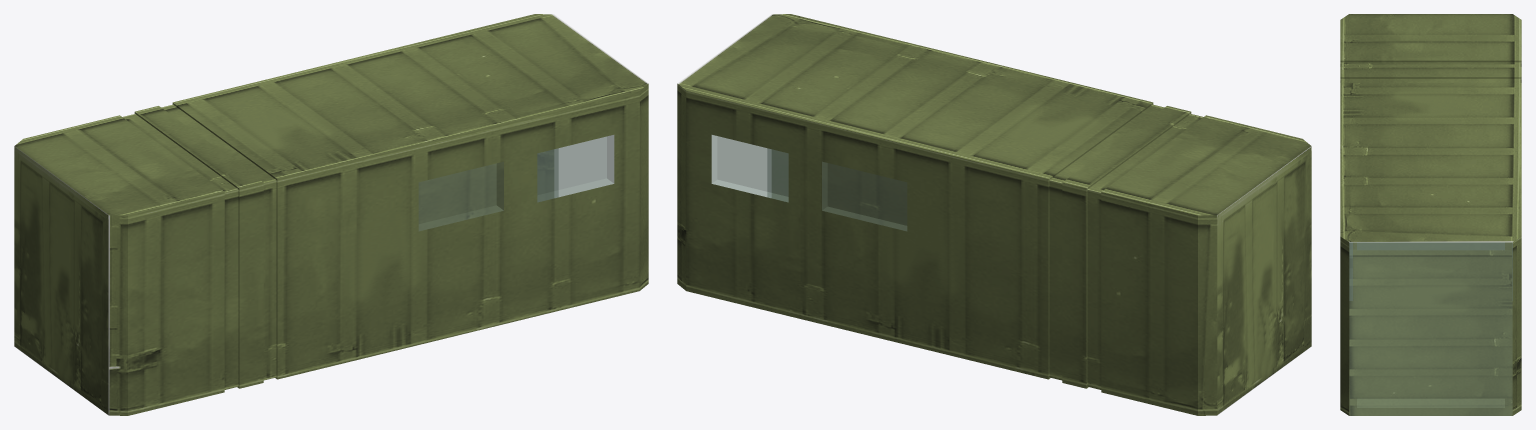
Rendered from Container_4.fbx.
The picture shows the model from 3 angles, left to right: view 1: azimuth 30°, elevation 25°; view 2: azimuth 150°, elevation 25°; view 3: azimuth 270°, elevation 25°; orthographic projection. The views are drawn at different scales.
Visible parts, largest first — view 1: pCube72; view 2: pCube72; view 3: pCube72.
Part boxes in pixels (box(x1,y1,x2,y2)): pCube72: box(14, 14, 648, 415); pCube72: box(677, 14, 1311, 415); pCube72: box(1340, 14, 1521, 415).
Size of the model in its own units: 11.53 by 4.09 by 3.88.
Materials: 2 (1 with a texture image).
